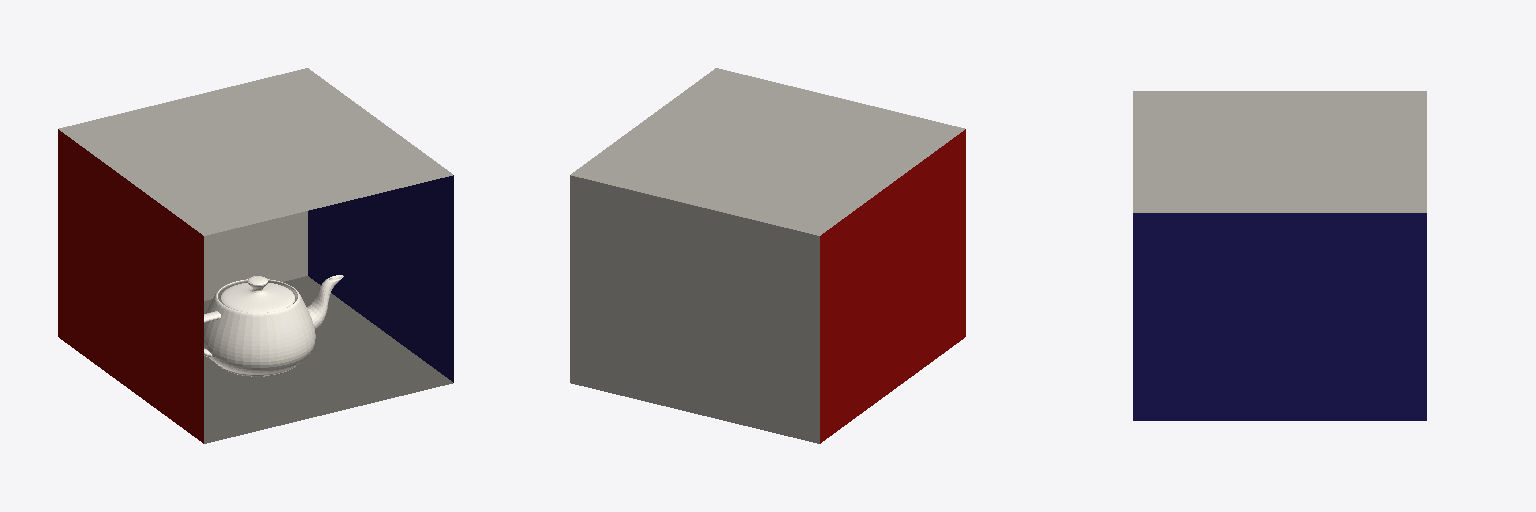
File: cbox.obj
The picture shows the model from 3 angles: view 1: azimuth 30°, elevation 25°; view 2: azimuth 150°, elevation 25°; view 3: azimuth 270°, elevation 25°; orthographic projection.
Visible parts, largest first — view 1: ceiling, leftWall, rightWall, floor, teapot, backWall; view 2: backWall, ceiling, leftWall; view 3: rightWall, ceiling.
Boxes of the visible parts, x1,y1,x2,y2 form: ceiling: [59, 68, 452, 235]; leftWall: [58, 129, 203, 443]; rightWall: [308, 175, 453, 382]; floor: [204, 276, 452, 443]; teapot: [204, 275, 343, 376]; backWall: [204, 211, 307, 300]; backWall: [570, 175, 819, 443]; ceiling: [571, 68, 964, 235]; leftWall: [820, 129, 965, 443]; rightWall: [1133, 213, 1426, 420]; ceiling: [1133, 91, 1426, 212].
Bounding box in the file's own units: 2 × 1.59 × 2.03.